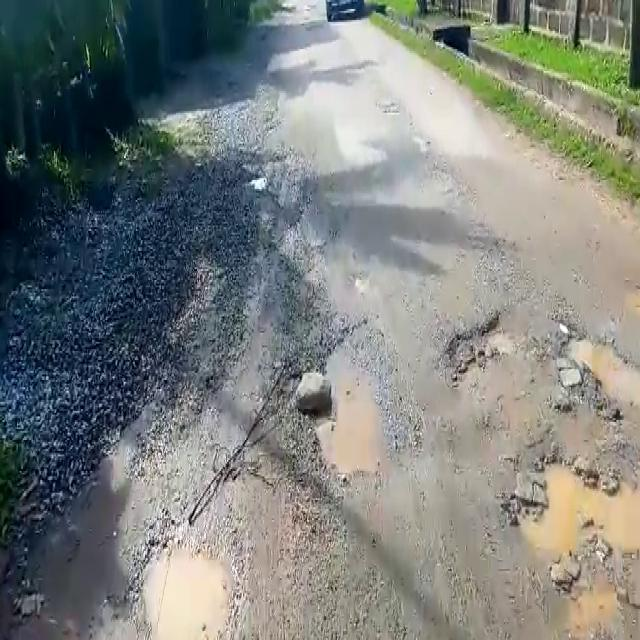pothole: (313, 323, 415, 474), (506, 455, 637, 556), (133, 539, 240, 640), (551, 310, 637, 415), (447, 312, 516, 387)
